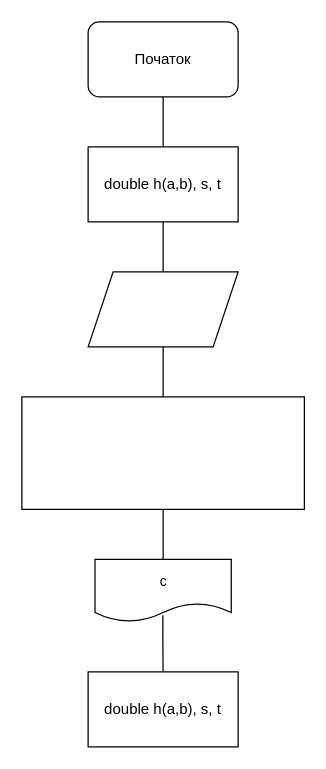
This 326x769 diagram has some shape labels left out. The centre of each missing label's shape, as x and y in pixels:
double c = (h 4 (s,t) + h(1, s 2 + t 2 )) / (1 + h 2 (st, 1)): pixel 162 452
s, t: pixel 162 309
